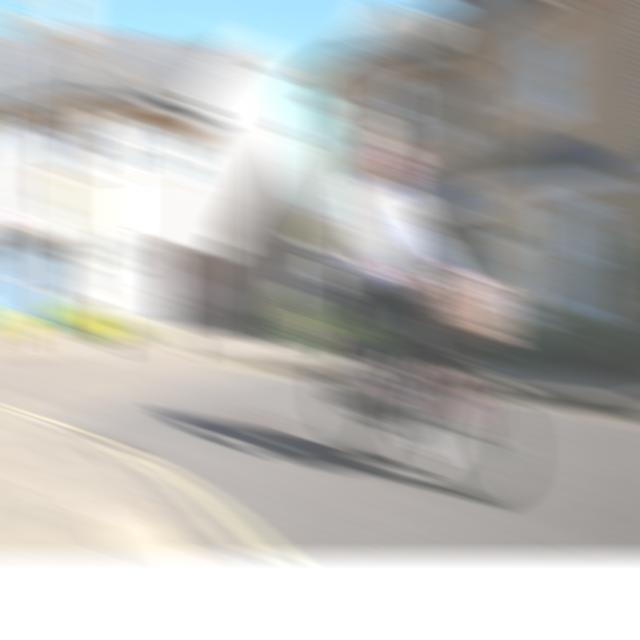Without Helmet: (362, 126, 421, 186)
